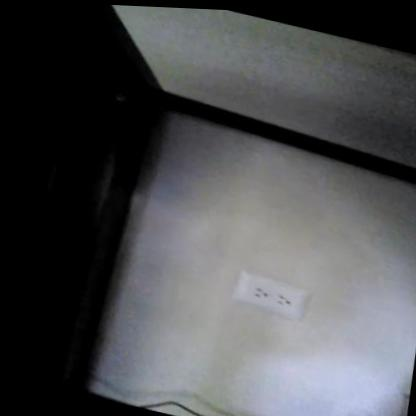OUTLET: (227, 270, 310, 318)
